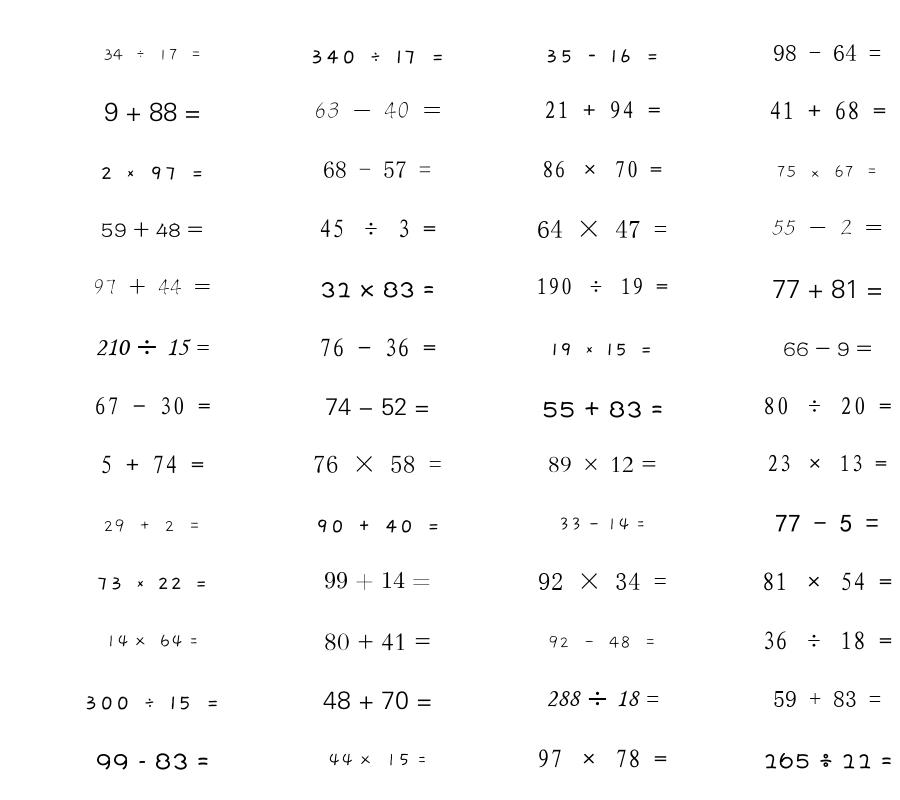MQ: (762, 572, 892, 591), (762, 631, 892, 650), (537, 749, 667, 768), (536, 277, 668, 295), (537, 220, 667, 238), (763, 397, 892, 415), (313, 455, 442, 473), (538, 572, 667, 590), (314, 101, 441, 119), (769, 101, 886, 120), (319, 219, 436, 238), (319, 338, 436, 357), (772, 279, 883, 299), (763, 752, 892, 769), (542, 160, 662, 178), (767, 454, 887, 472), (544, 101, 661, 119), (94, 397, 211, 415), (323, 691, 432, 710), (542, 401, 663, 418), (324, 571, 431, 590), (100, 455, 204, 474), (320, 281, 435, 298), (104, 102, 201, 122), (95, 339, 209, 356), (324, 633, 431, 651), (546, 690, 659, 707), (96, 753, 209, 770), (84, 696, 220, 710), (310, 50, 445, 64), (325, 398, 430, 416), (93, 279, 211, 295), (775, 514, 879, 532), (548, 456, 657, 473), (773, 44, 881, 61), (323, 161, 431, 178), (772, 219, 883, 235), (315, 519, 440, 533), (101, 221, 203, 238), (773, 691, 881, 707), (545, 49, 659, 63), (548, 635, 657, 649), (100, 166, 204, 180), (96, 577, 208, 590), (328, 753, 427, 767), (103, 519, 201, 533), (776, 165, 878, 178), (551, 343, 653, 356), (105, 634, 199, 648), (783, 342, 872, 356), (558, 517, 646, 531), (103, 49, 202, 61)
